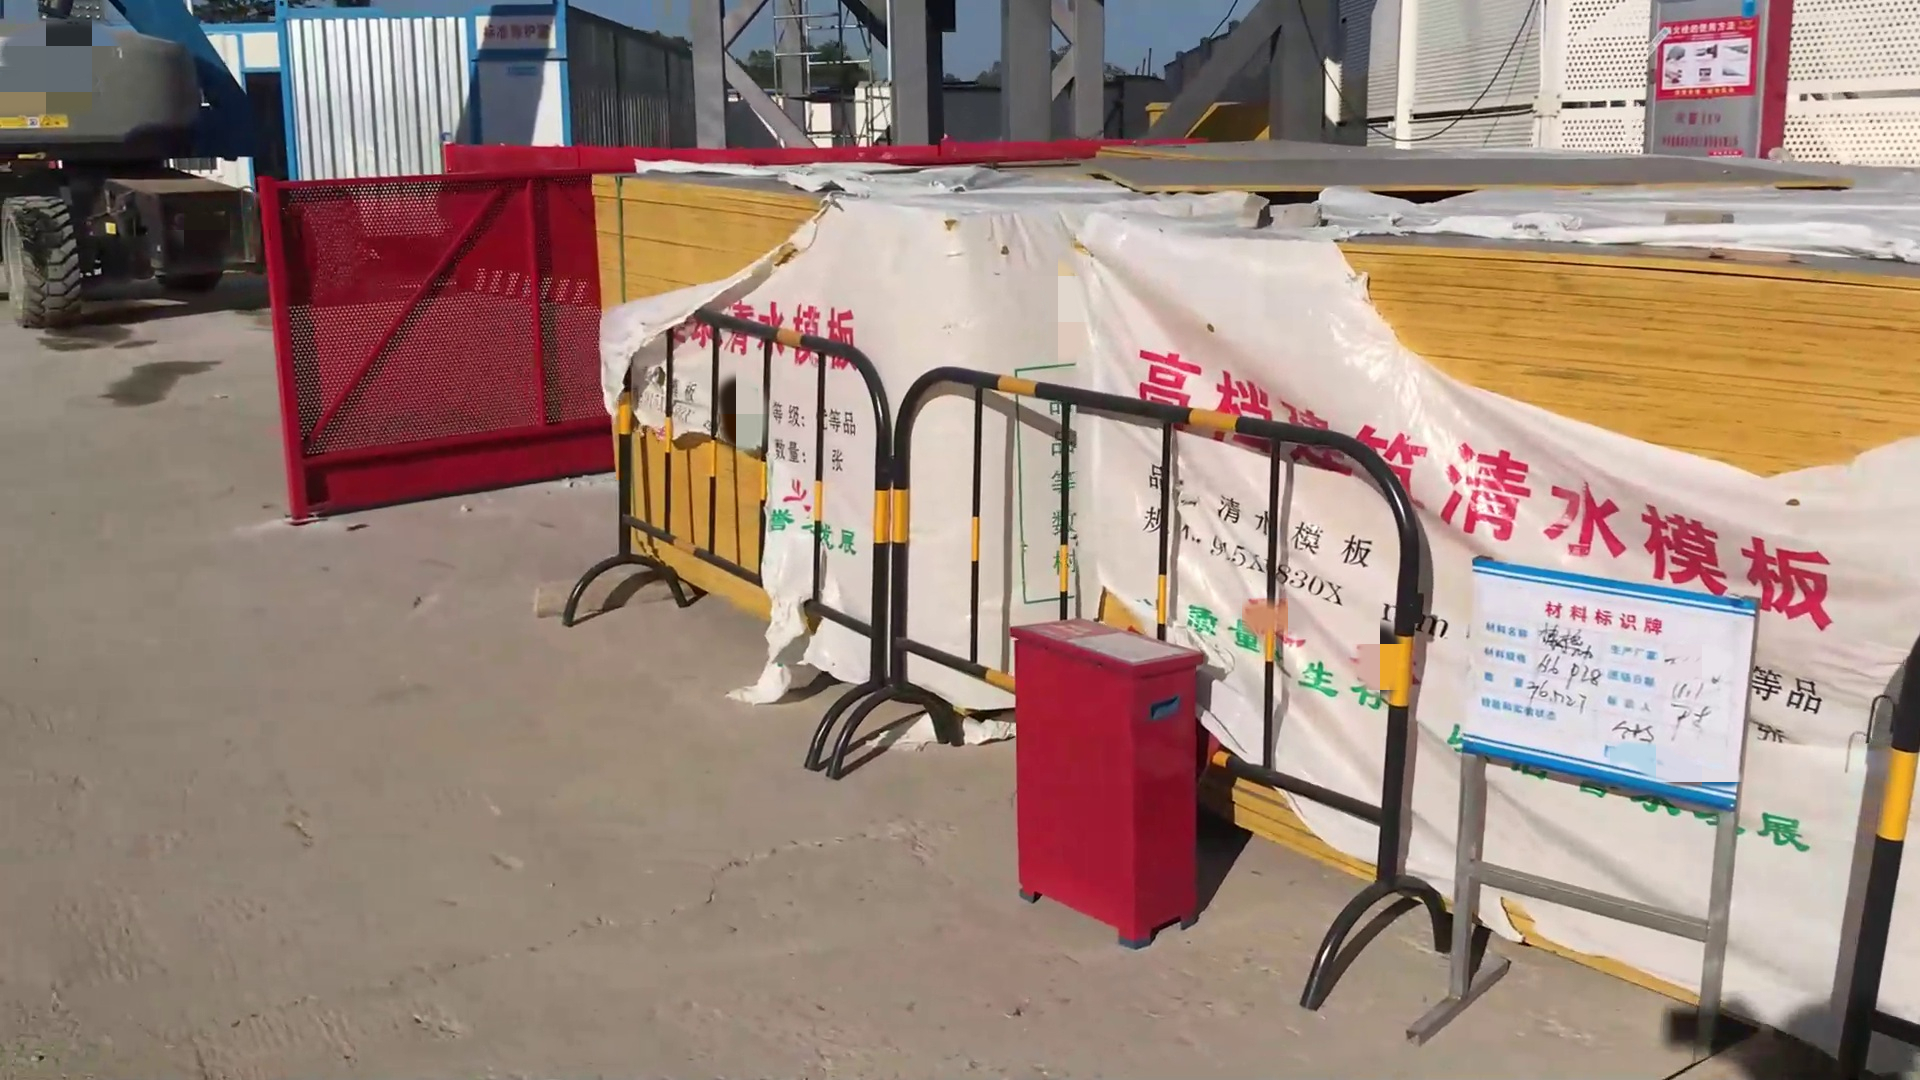fence: (605, 311, 1429, 985), (266, 165, 593, 531)
